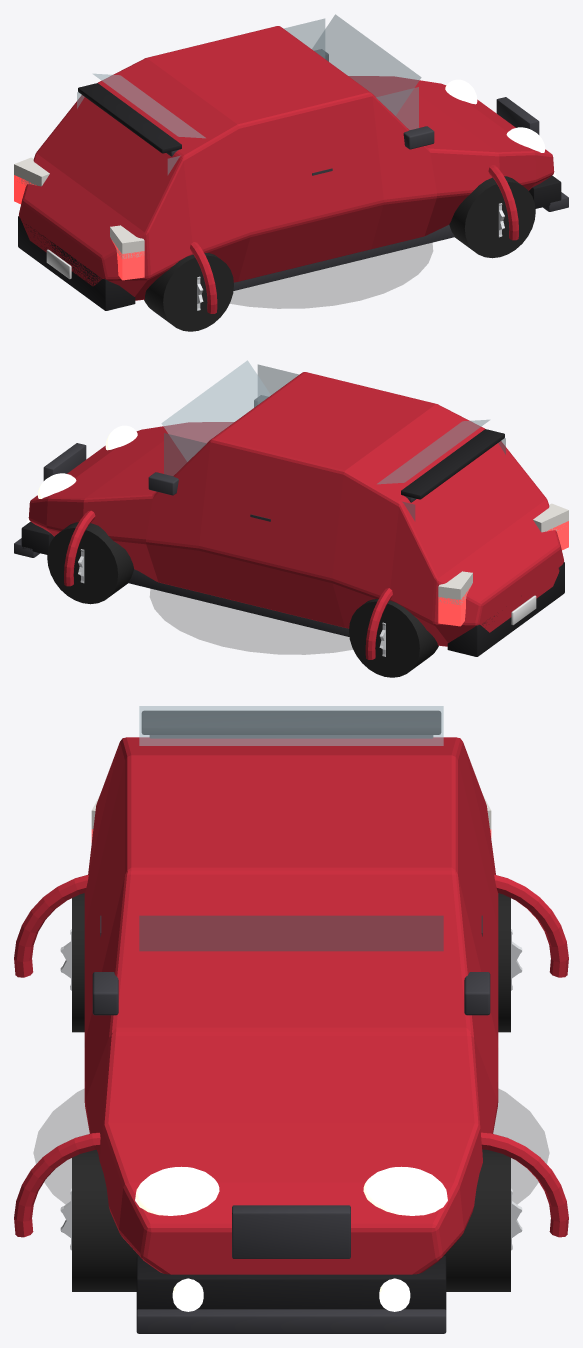
The model's file is peugeot-106-gti.glb.
The picture shows the model from 3 angles, top to bottom: view 1: azimuth 30°, elevation 25°; view 2: azimuth 150°, elevation 25°; view 3: azimuth 270°, elevation 25°; orthographic projection. The views are drawn at different scales.
Parts seen in each view (by area): view 1: Body, Shadow, Windshield, Wheel_FL_Tyre, Wheel_RL_Tyre, RearValance, SpoilerWing, SkirtL, RearGlass, DoorGlass_L, DoorGlass_R, Grille (+9 smaller); view 2: Body, Shadow, Windshield, Wheel_FR_Tyre, Wheel_RR_Tyre, SpoilerWing, SkirtR, RearValance, RearGlass, DoorGlass_R, DoorGlass_L, Grille (+9 smaller); view 3: Body, RearGlass, Windshield, FrontValance, FrontLip, SpoilerWing, Wheel_FR_Tyre, Wheel_FL_Tyre, Grille, Shadow, Headlamp_L, Headlamp_R (+11 smaller).
Part boxes in pixels (x1,y1,x2,y2): Body: (19,26,554,300); Shadow: (230,243,432,308); Windshield: (312,14,421,115); Wheel_FL_Tyre: (449,176,535,258); Wheel_RL_Tyre: (144,253,233,331); RearValance: (18,216,135,310); SpoilerWing: (78,83,181,153); SkirtL: (233,225,454,290); RearGlass: (93,73,205,138); DoorGlass_L: (376,87,418,129); DoorGlass_R: (284,18,325,58); Grille: (496,97,539,134); Body: (28,372,563,646); Shadow: (150,589,352,654); Windshield: (161,360,270,461); Wheel_FR_Tyre: (47,522,133,604); Wheel_RR_Tyre: (349,599,438,677); SpoilerWing: (401,429,504,499); SkirtR: (128,569,349,636); RearValance: (447,562,564,656); RearGlass: (377,419,489,484); DoorGlass_R: (164,433,206,475); DoorGlass_L: (257,364,298,404); Grille: (43,443,86,480); Body: (84,737,498,1274); RearGlass: (139,706,443,745); Windshield: (139,915,443,951); FrontValance: (136,1255,446,1309); FrontLip: (136,1309,446,1333); SpoilerWing: (141,710,441,734); Wheel_FR_Tyre: (444,1149,510,1291); Wheel_FL_Tyre: (72,1149,138,1291); Grille: (232,1205,350,1258); Shadow: (34,1089,548,1203); Headlamp_L: (135,1166,219,1215); Headlamp_R: (363,1166,447,1215).
Size of the model in its own units: 3.69 by 1.36 by 2.15.
